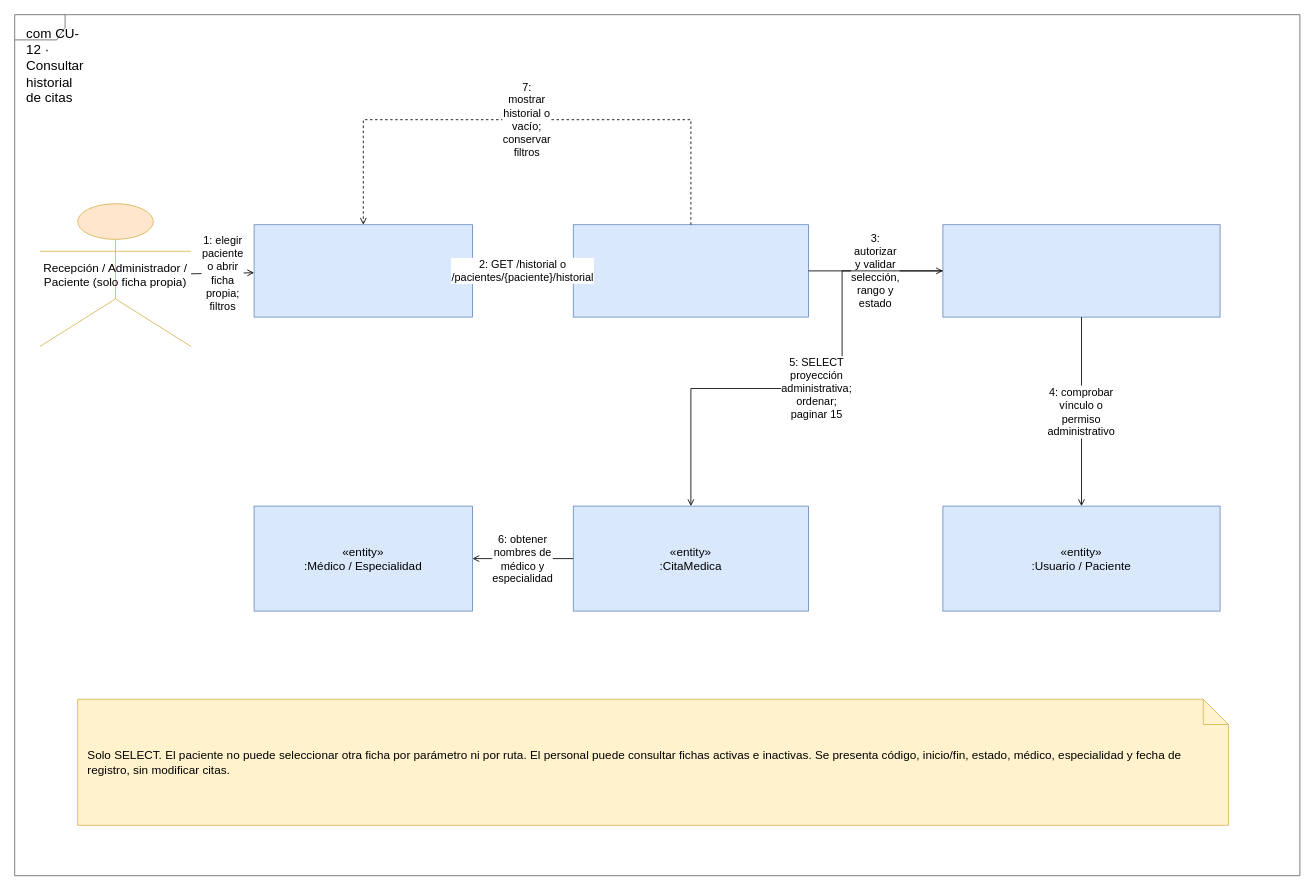
Some shapes in this 1315 by 890 pixel diagram are drawn without their labels. The shapes that lost their labels are listed below. From the top down, each one's centre as x and y in pixels, then its label:
At (x=362, y=270): "«boundary» :PantallaHistorial".
At (x=690, y=270): "«control» :HistorialController".
At (x=1081, y=270): "«control» :AutorizaciónYFiltros".
